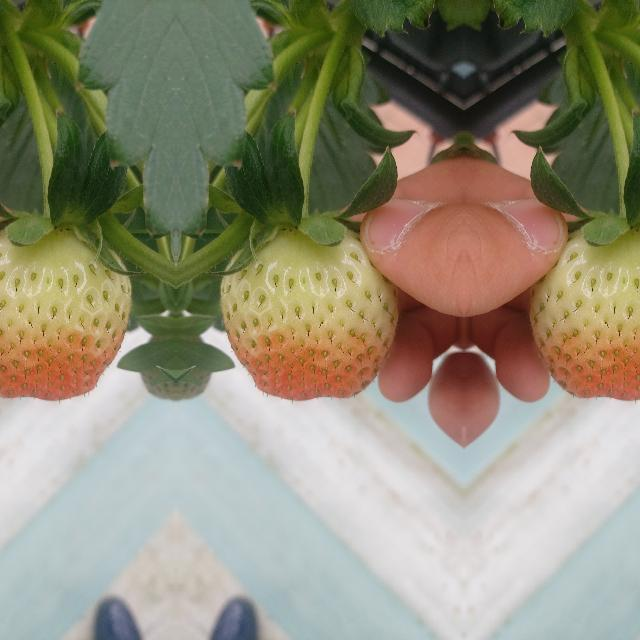Health_50: (219, 228, 397, 400), (0, 228, 131, 400), (529, 228, 640, 400)
